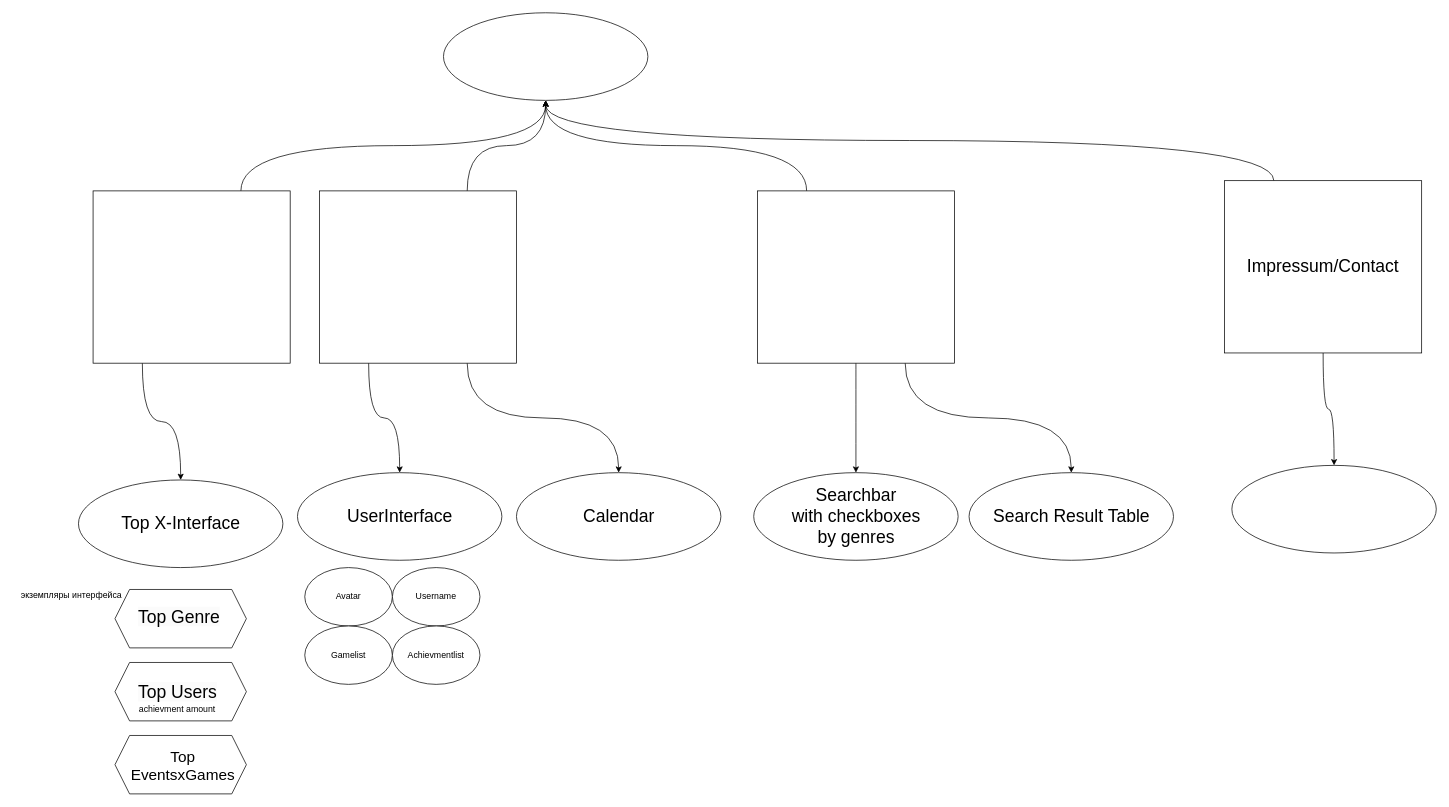
This 1449x807 diagram has some shape labels left out. Each missing label, with the centre of its shape:
"-header & footer" goes at pixel 545 56.
"Homepage" goes at pixel 191 276.
"Impressum" goes at pixel 1333 509.
"Searching Site" goes at pixel 855 276.
"Userprofile" goes at pixel 417 276.
